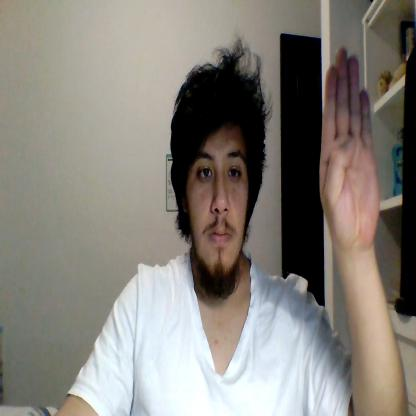B: (319, 44, 379, 250)
